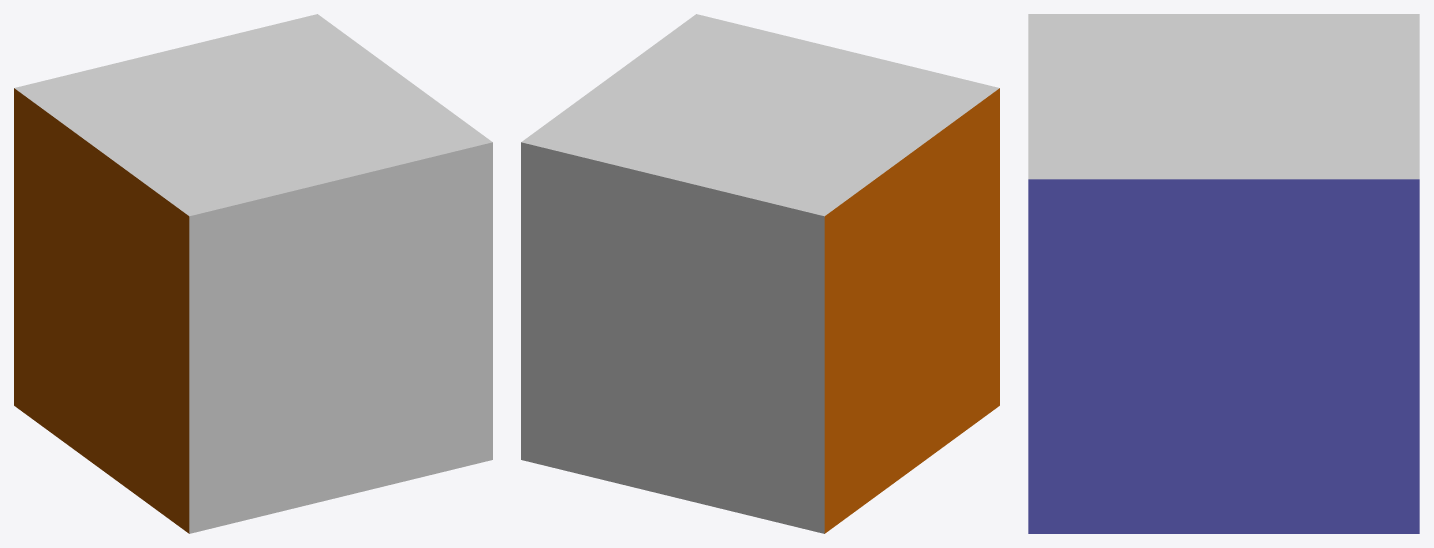
The model's file is CornellBox.FBX.
3 renders of one model, left to right at view 1: azimuth 30°, elevation 25°; view 2: azimuth 150°, elevation 25°; view 3: azimuth 270°, elevation 25°, orthographic. The views are drawn at different scales.
Parts seen in each view (by area): view 1: CornellBox; view 2: CornellBox; view 3: CornellBox.
Boxes of the visible parts, x1=… form: CornellBox: x1=14, y1=14, x2=492, y2=533; CornellBox: x1=521, y1=14, x2=999, y2=533; CornellBox: x1=1028, y1=14, x2=1419, y2=533.
Size of the model in its own units: 40 by 40 by 40.
